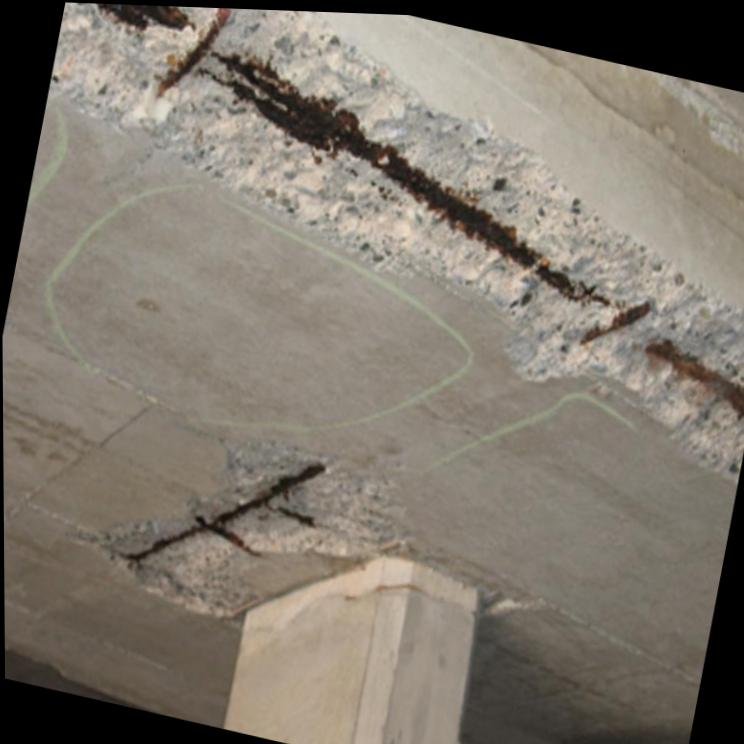damage: (49, 2, 744, 619)
